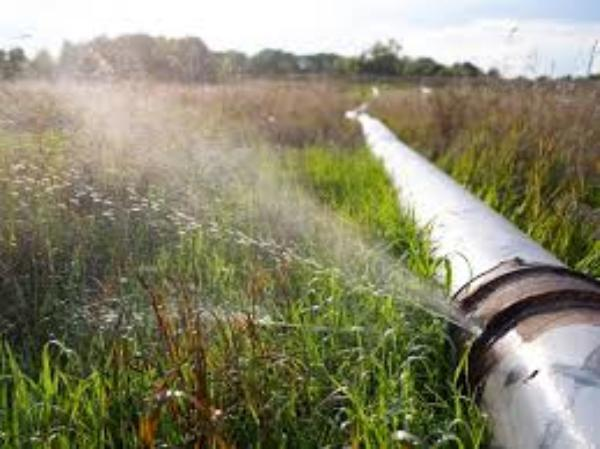pipe burst: (41, 58, 491, 348)
